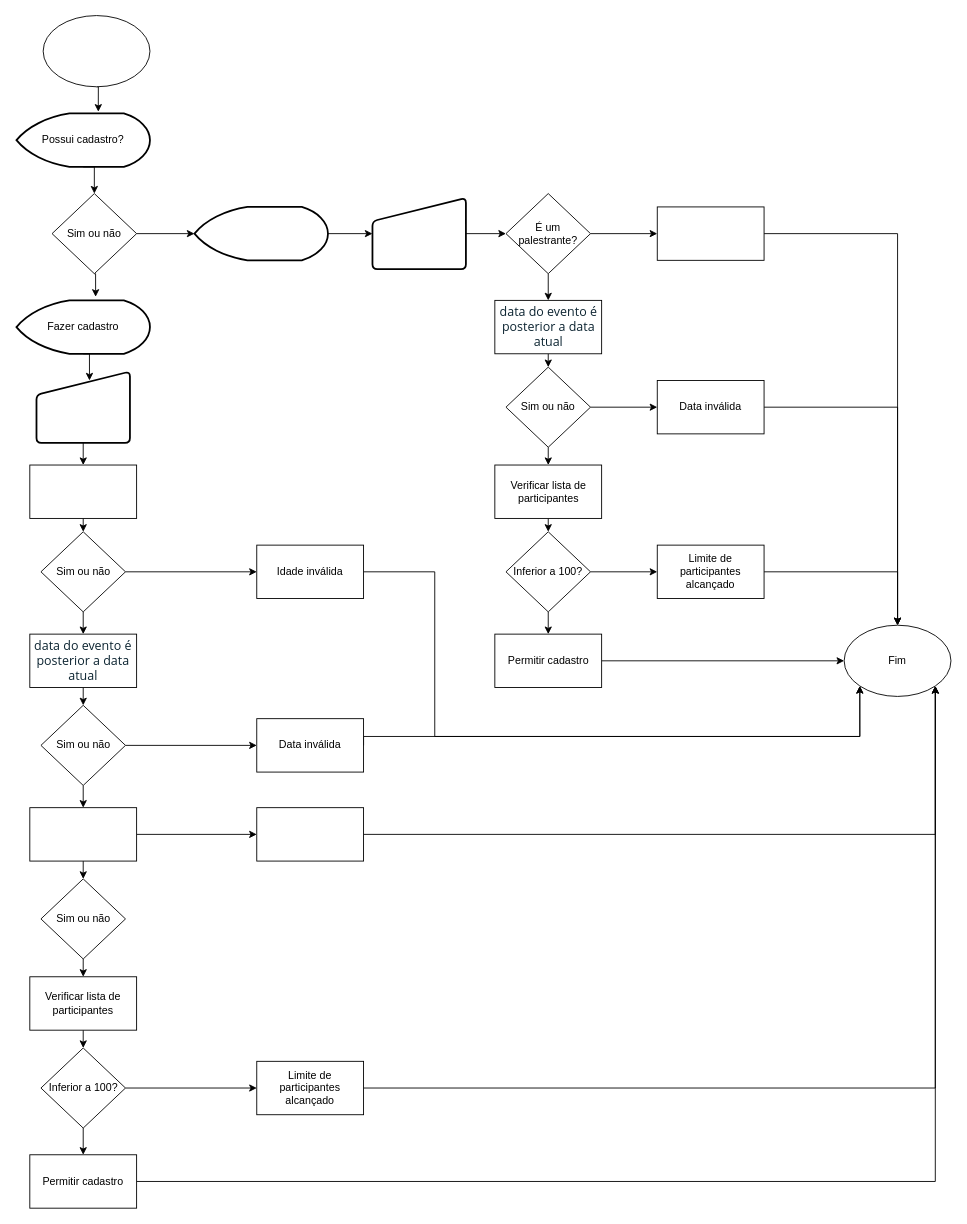
This 967x1224 diagram has some shape labels left out. Here are the shapes that lost their labels. From the top down, the centre of each, then its label:
point (96, 51): Início
point (260, 233): Fazer Login
point (418, 233): Dados do login
point (710, 233): Adicionar à lista de palestrantes
point (82, 406): Dados do cadastro
point (83, 491): Possui mais de 18 anos?
point (83, 834): É um palestrante
point (310, 834): Adicionar a lista de palestrantes
